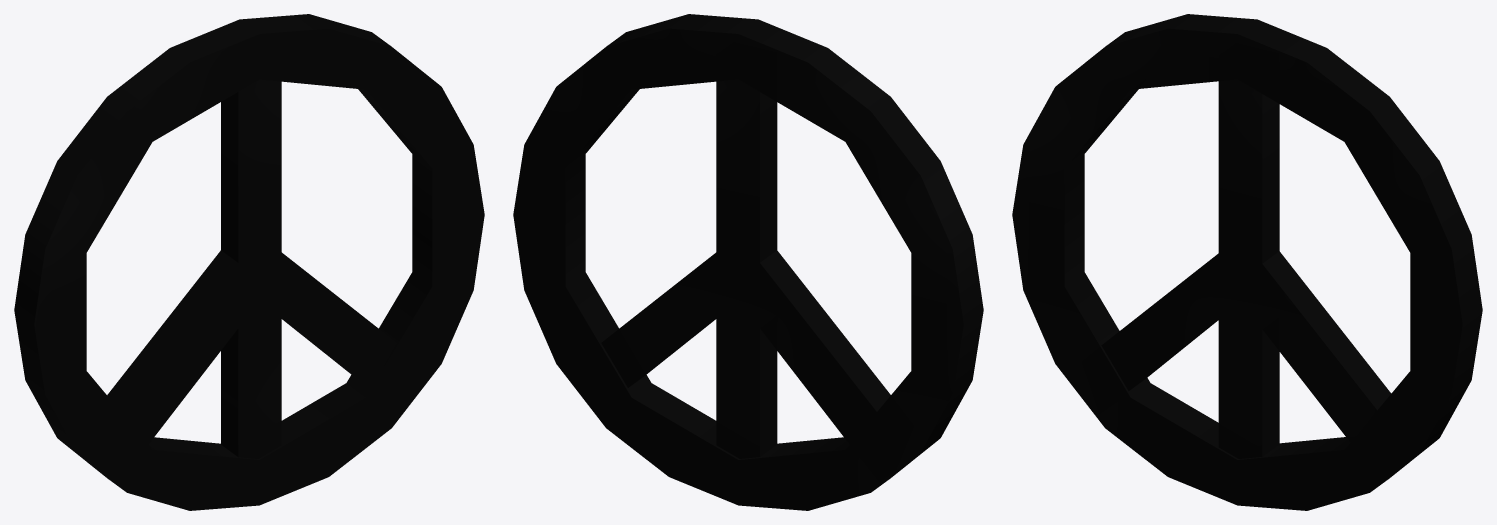
Rendered from Anti-warSymbol.glb.
3 renders of one model, left to right at view 1: azimuth 30°, elevation 25°; view 2: azimuth 150°, elevation 25°; view 3: azimuth 330°, elevation 25°, orthographic.
Parts seen in each view (by area): view 1: Anti-warSymbol; view 2: Anti-warSymbol; view 3: Anti-warSymbol.
Part boxes in pixels (x1,y1,x2,y2): Anti-warSymbol: (14, 14, 484, 510); Anti-warSymbol: (513, 14, 983, 510); Anti-warSymbol: (1012, 14, 1482, 510).
Bounding box in the file's own units: 0.00995 × 0.00995 × 0.000763.
Materials: 1 (1 with a texture image).
